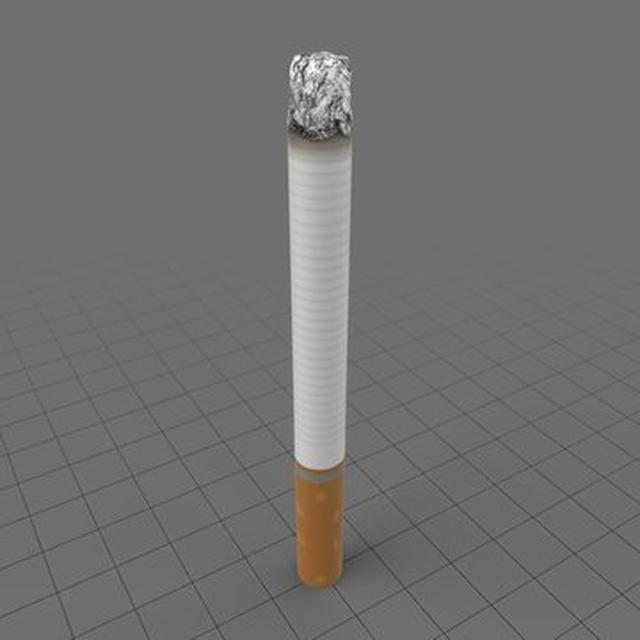Cigarette: (284, 50, 354, 588)
